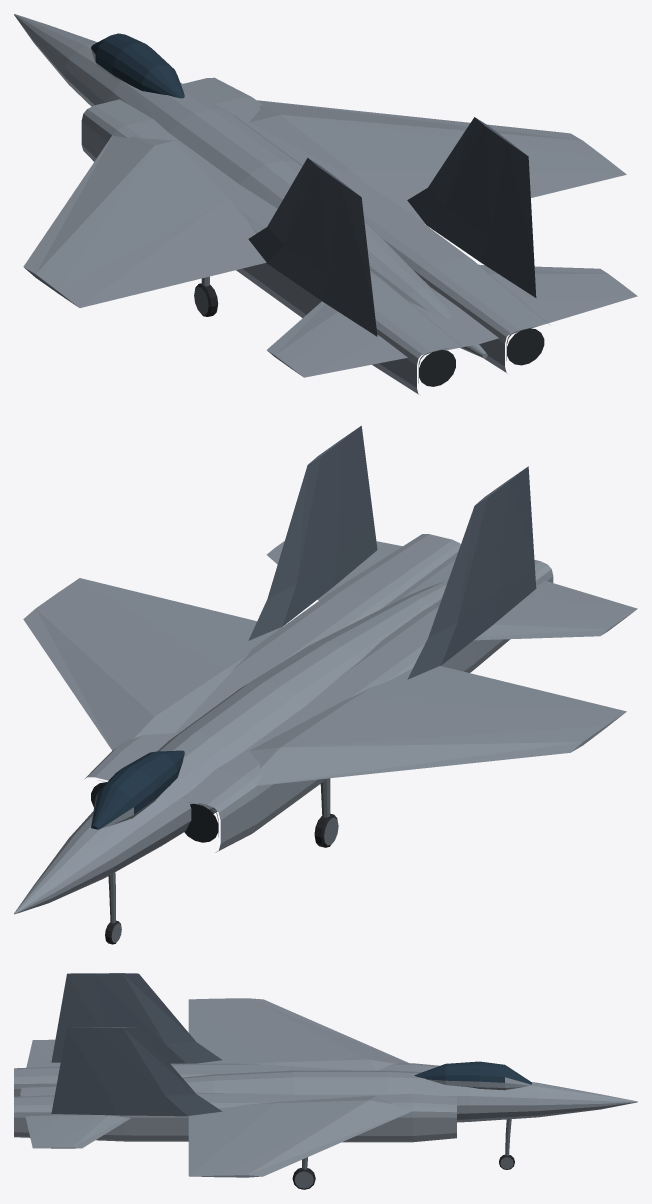
The picture shows the model from 3 angles, top to bottom: view 1: azimuth 30°, elevation 25°; view 2: azimuth 150°, elevation 25°; view 3: azimuth 270°, elevation 25°; orthographic projection. The views are drawn at different scales.
Visible parts, largest first — view 1: airframe, gear; view 2: airframe, gear; view 3: airframe, gear.
Part boxes in pixels (x1,y1,x2,y2): airframe: [14, 14, 637, 394]; gear: [194, 276, 218, 316]; airframe: [14, 425, 637, 914]; gear: [105, 778, 338, 944]; airframe: [14, 973, 637, 1177]; gear: [292, 1119, 514, 1189].
Size of the model in its own units: 13.05 by 5.8 by 19.43.
